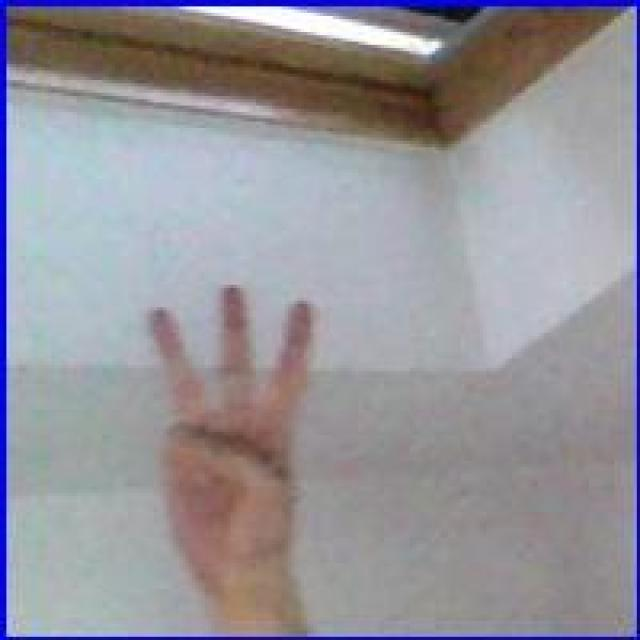W: (146, 282, 322, 598)
